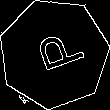P_W: (24, 27, 84, 80)
